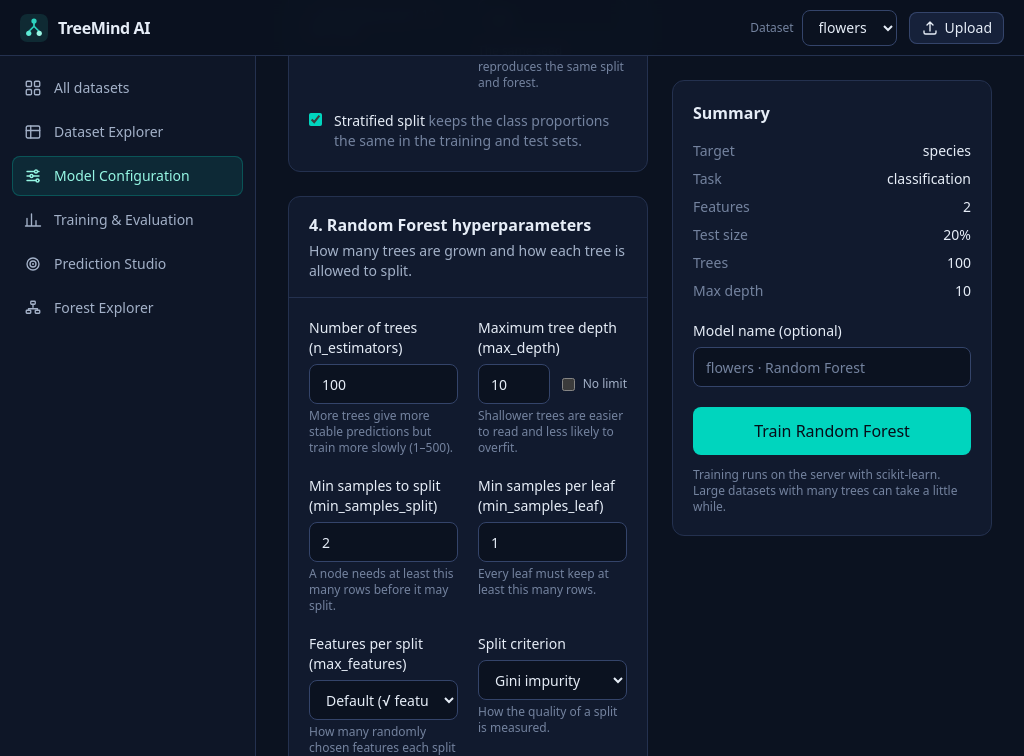
Test: Model Configuration › validates inputs before sending anything
(page scrolled)
Step 1. Replace the text in the field labelled "Number of trees (n_estimators)" with "0" → (384, 384), box [309,364,458,404]
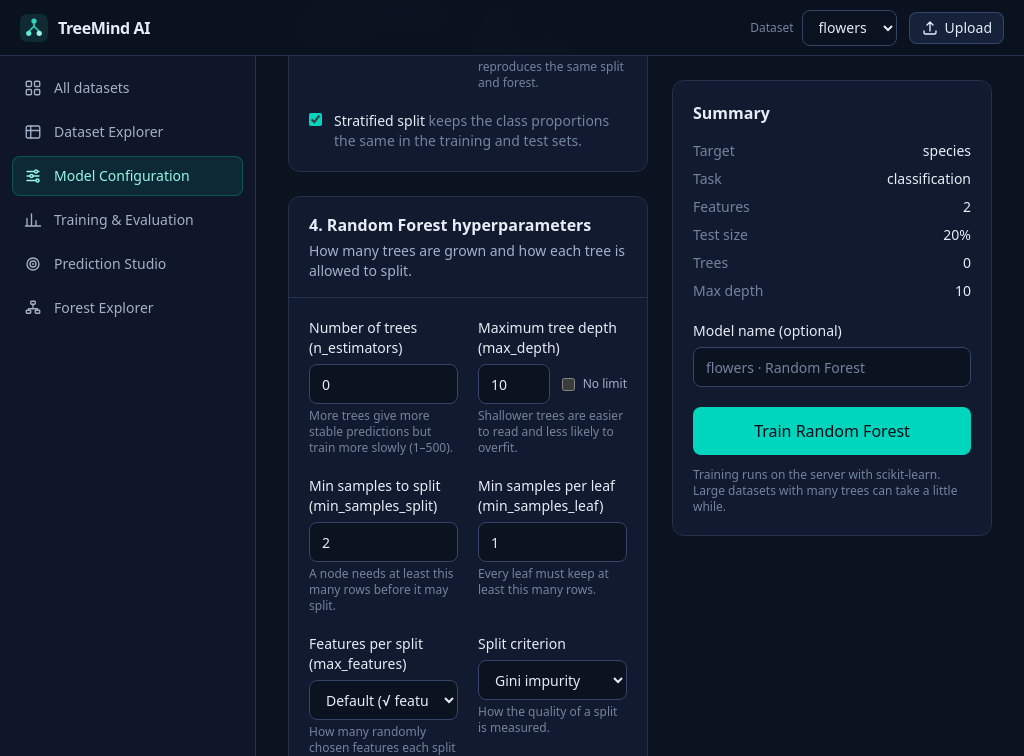
Step 2. Click the button "Train Random Forest" → (832, 431), box [693,407,971,455]
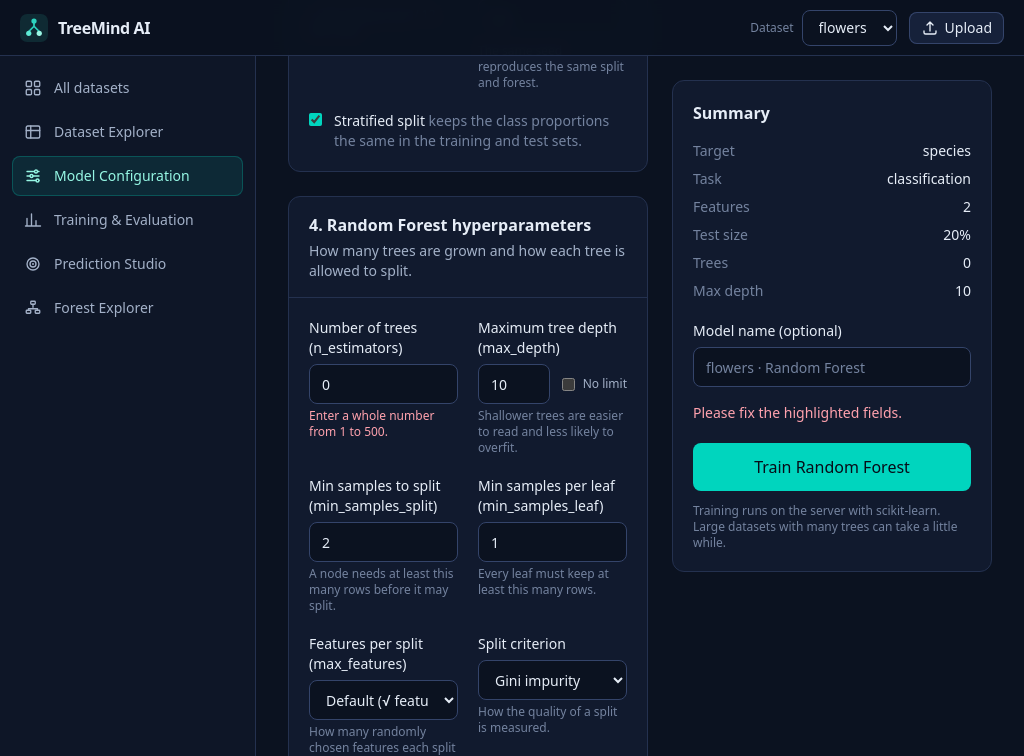
Check: the text "Enter a whole number from 1 to 500." is shown, box [309,407,434,440]
